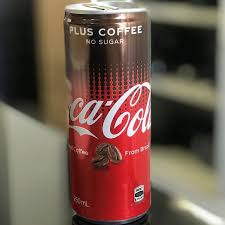coke: (67, 5, 152, 220)
